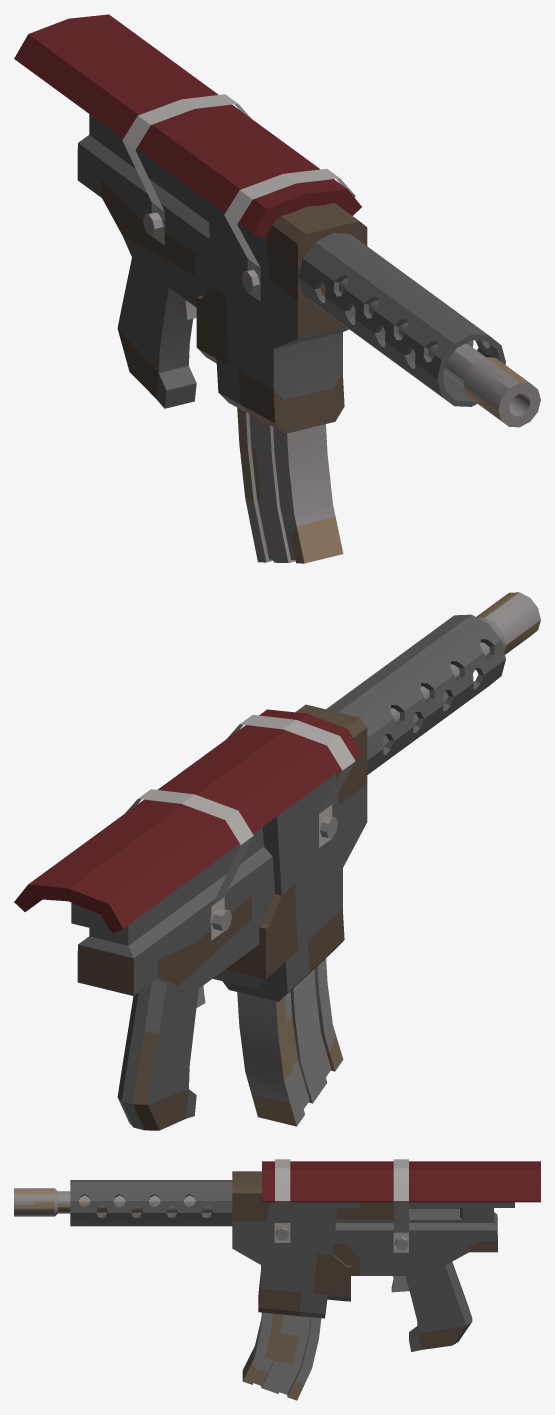
Rendered from quaternius-zombie-apocalypse-kit-march-smg.glb.
3 views of the same model, one above another, from view 1: azimuth 30°, elevation 25°; view 2: azimuth 150°, elevation 25°; view 3: azimuth 270°, elevation 25° (orthographic). The views are drawn at different scales.
Parts seen in each view (by area): view 1: SMG; view 2: SMG; view 3: SMG.
Part boxes in pixels (x1,y1,x2,y2): SMG: [14, 14, 540, 563]; SMG: [14, 592, 540, 1130]; SMG: [14, 1159, 540, 1400].
Bounding box in the file's own units: 0.1507 × 0.4718 × 0.994.
1 material, 1 textured.
